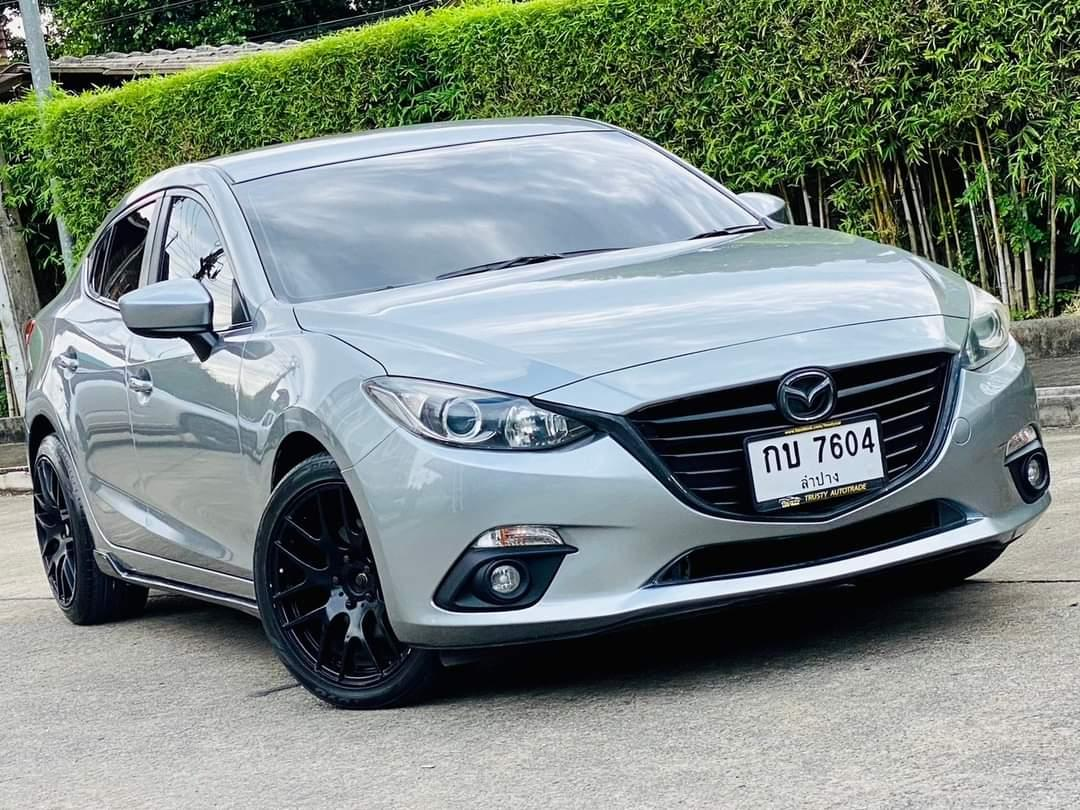license-plate: (738, 416, 890, 514)
